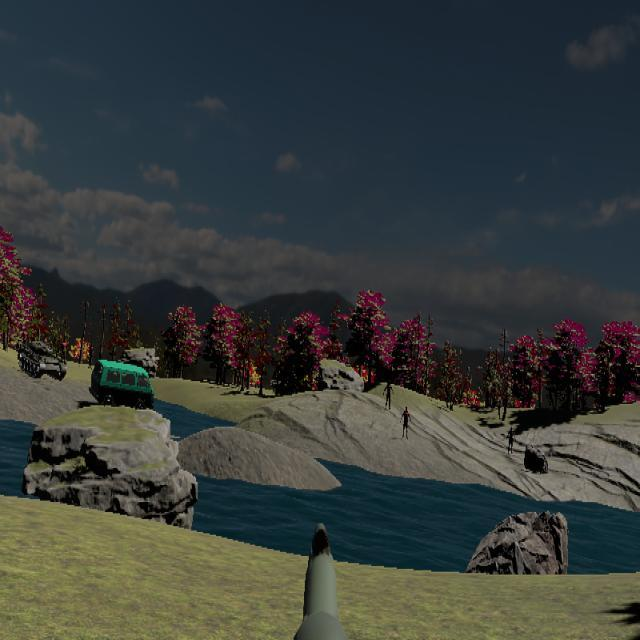Tank: (17, 339, 67, 382)
car: (90, 359, 154, 413)
